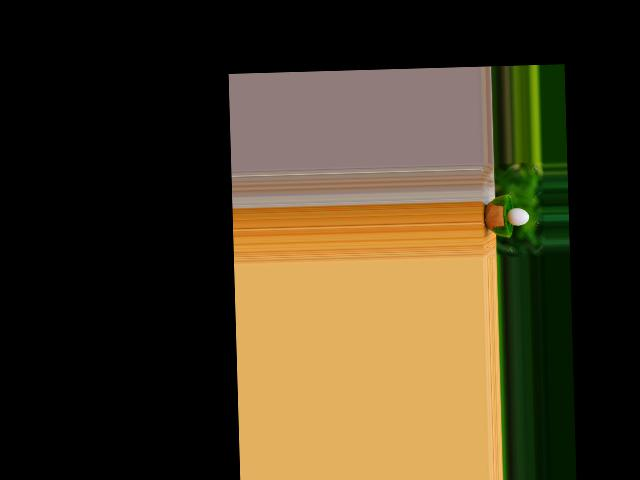egg: (506, 206, 528, 225)
